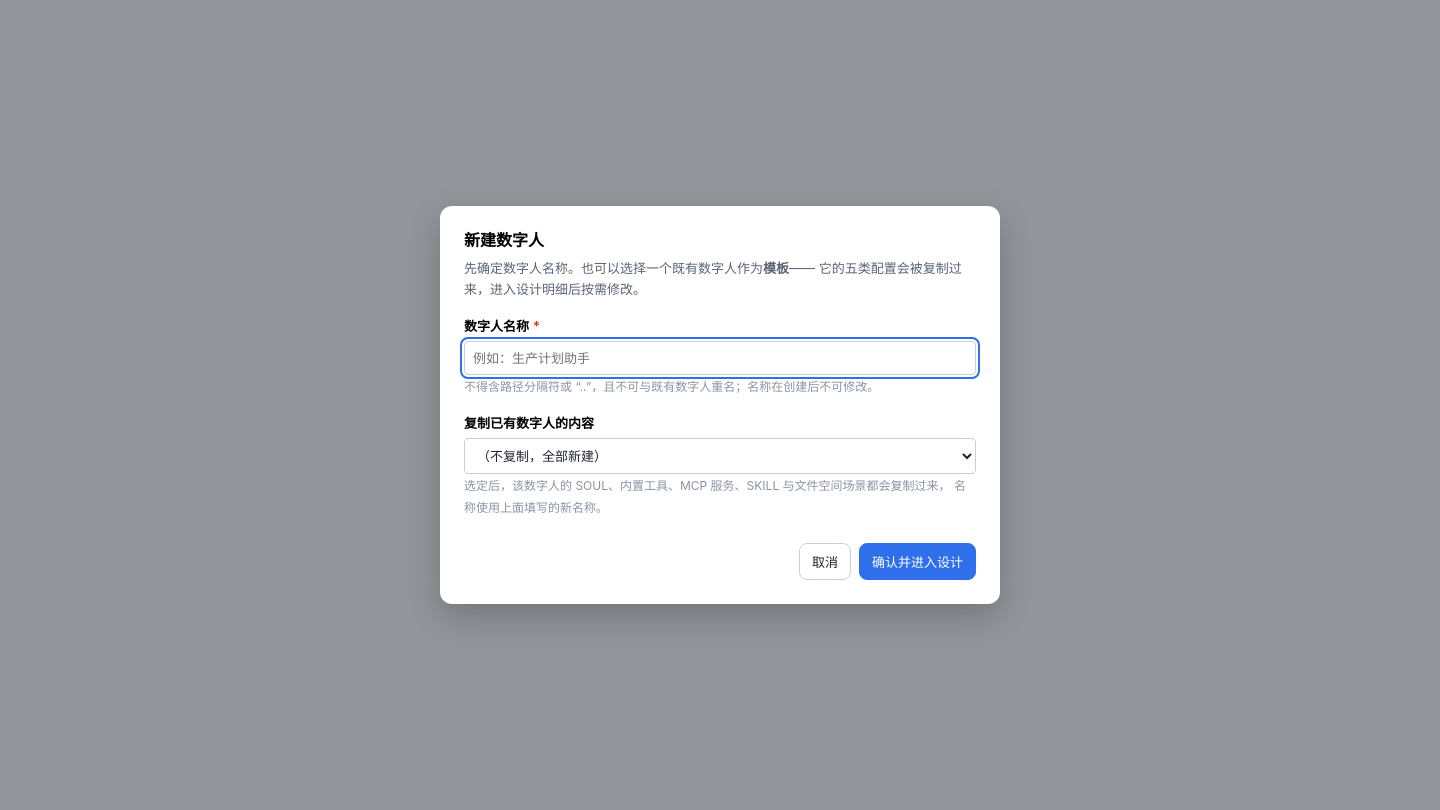
Test case: CreateAgentDialog —— 名称必填与合法性（FR-015） › 名称为必填：留空确认即被拒绝，且不关窗
Click the button with test id "confirm" at (918, 561), box 859,543 -> 976,580
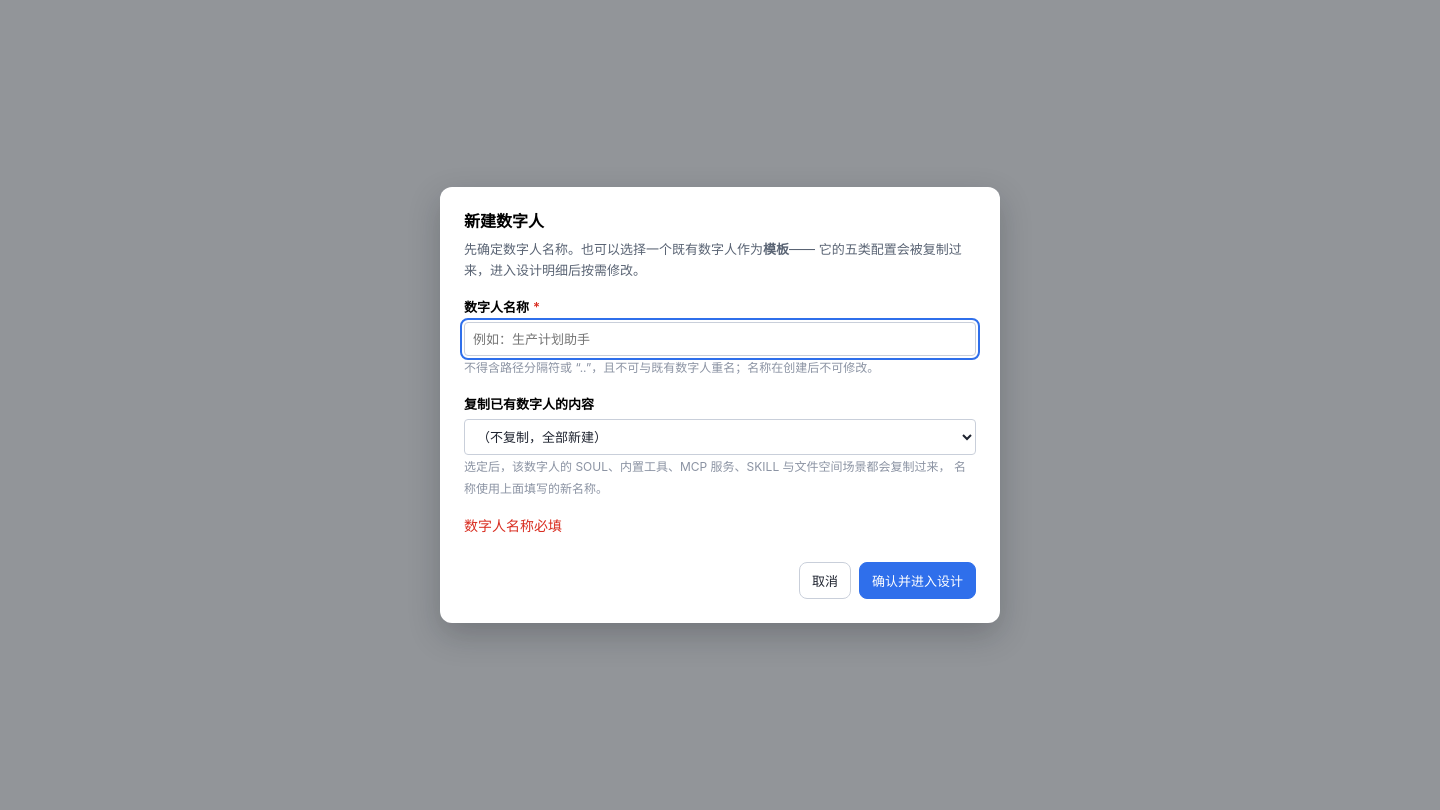
Expected: the message with test id "create-agent-error" shows "必填", 464,518 -> 562,534
